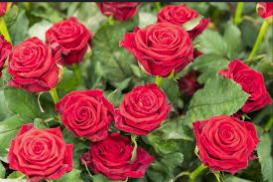RedRose: (117, 20, 207, 81), (189, 116, 267, 180), (10, 118, 76, 182), (5, 36, 64, 93), (111, 81, 172, 135), (55, 85, 114, 138), (44, 17, 95, 68)
